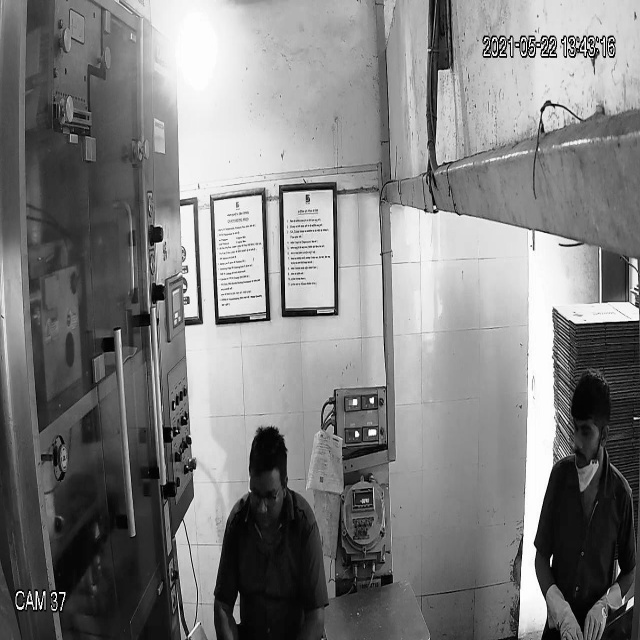Gafas: (245, 473, 287, 508)
Sin_gafas: (571, 415, 604, 447)
